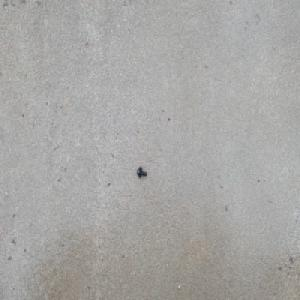BoltWasher: (136, 166, 147, 179)
